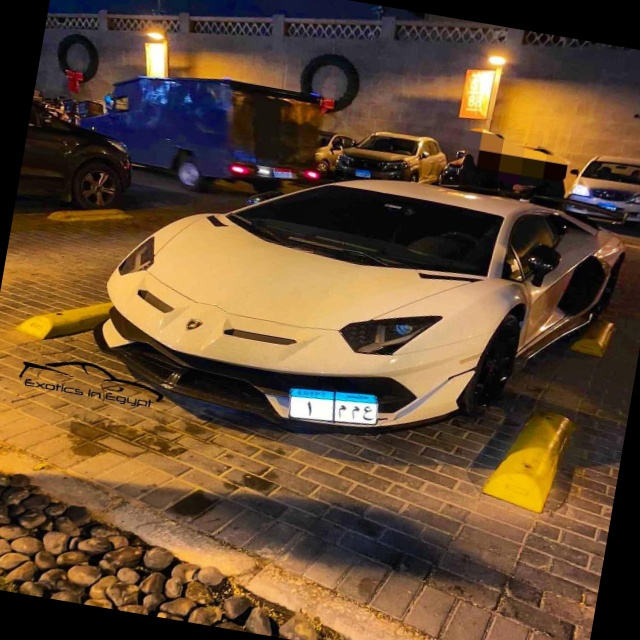License Plate: (283, 380, 384, 436)
